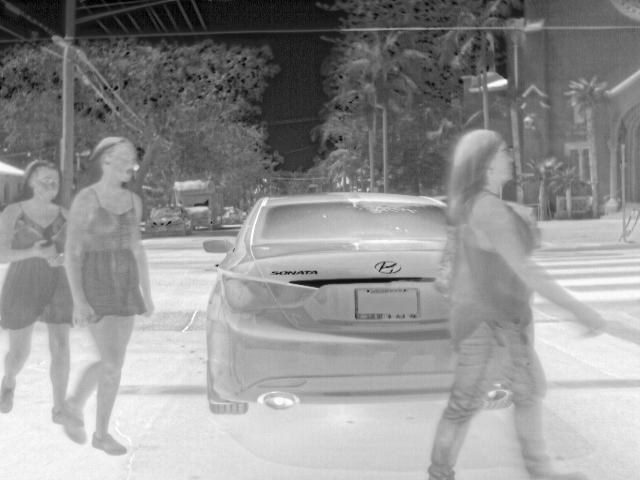car: (198, 192, 449, 416), (144, 204, 193, 236), (220, 204, 247, 226)
person: (425, 126, 603, 477), (54, 135, 153, 457), (0, 161, 67, 428)
